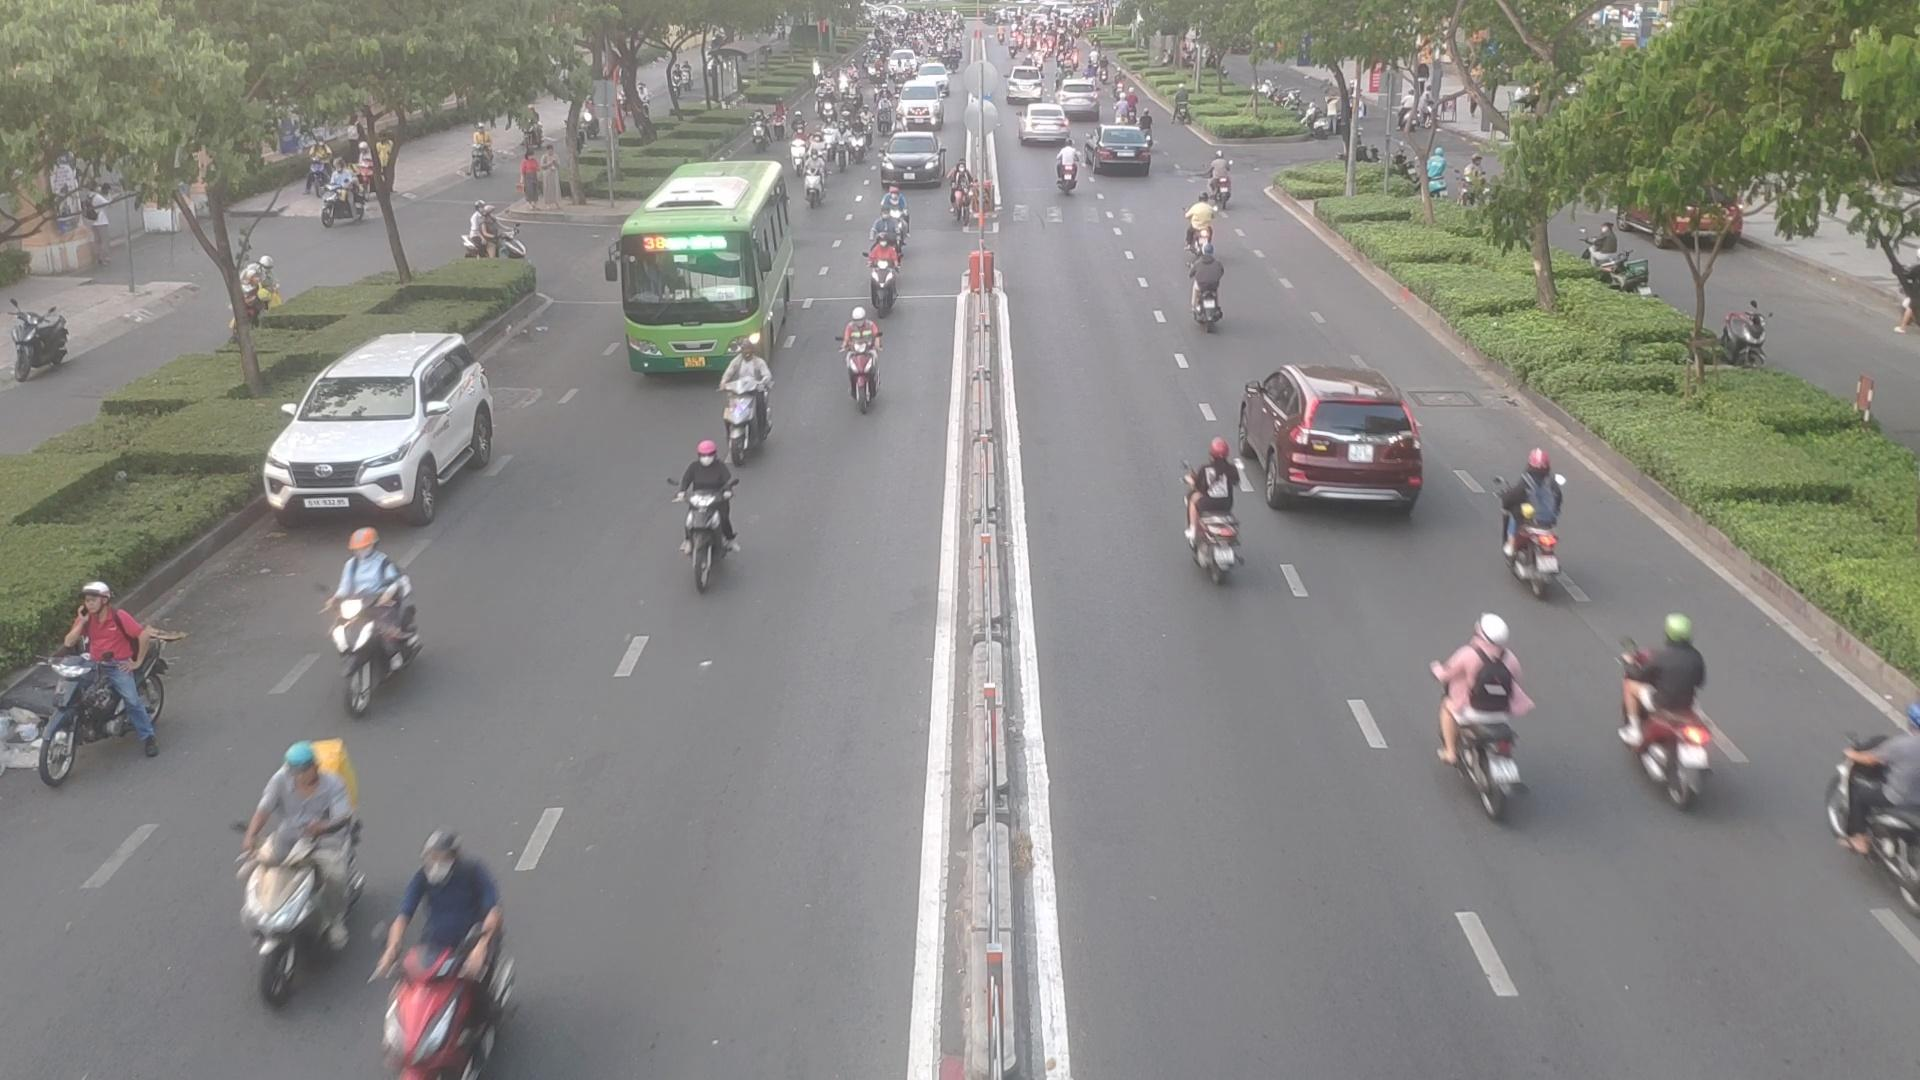bus: (616, 174, 798, 384), (1178, 431, 1263, 603)
car: (270, 332, 509, 526), (1222, 361, 1427, 513), (1018, 107, 1071, 146)
motorbike: (224, 746, 365, 993), (371, 831, 512, 1077), (17, 585, 170, 775), (1422, 615, 1538, 812), (1621, 620, 1741, 807), (1826, 716, 1920, 909), (334, 545, 425, 704), (669, 444, 744, 588), (1493, 469, 1572, 593), (709, 336, 771, 444), (833, 316, 889, 415), (1187, 252, 1238, 334), (860, 239, 905, 313), (1203, 160, 1244, 204), (1051, 146, 1083, 198)
